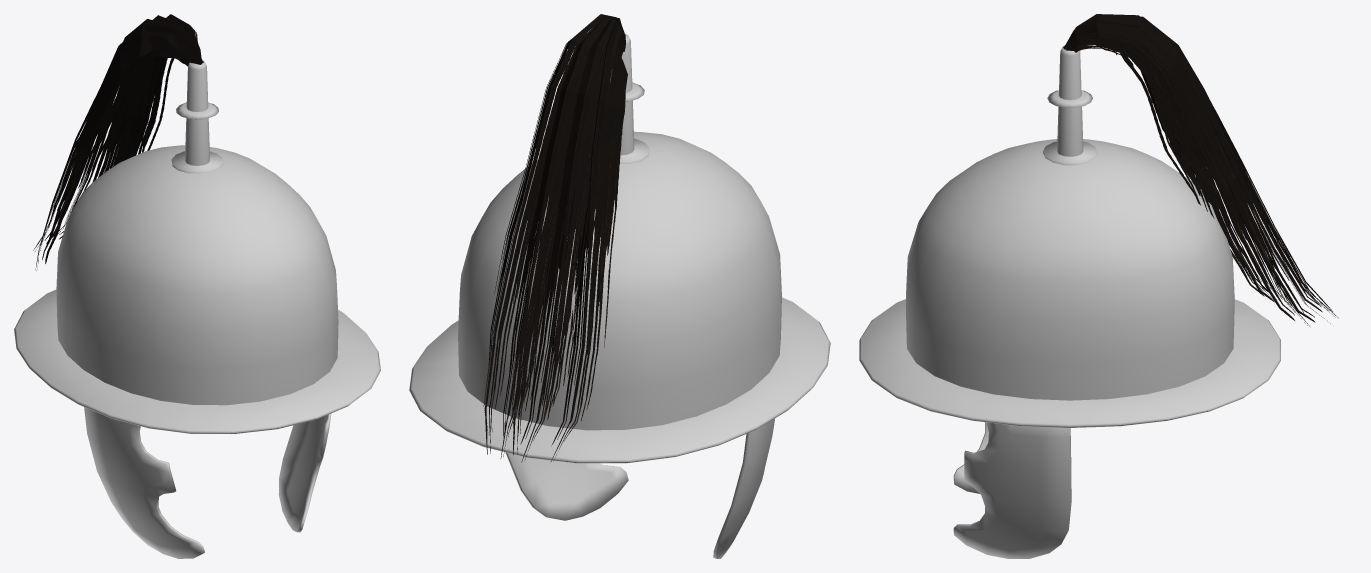
The model's file is imperial_celtic_helmet_plume_exp7.FBX.
3 views of the same model, side by side, from view 1: azimuth 30°, elevation 25°; view 2: azimuth 150°, elevation 25°; view 3: azimuth 270°, elevation 25° (orthographic). The views are drawn at different scales.
Parts seen in each view (by area): view 1: imperial_celtic_helmet_plume_exp7, Object001; view 2: imperial_celtic_helmet_plume_exp7, Object001; view 3: imperial_celtic_helmet_plume_exp7, Object001.
Boxes of the visible parts, x1,y1,x2,y2 form: imperial_celtic_helmet_plume_exp7: (14,60,380,558); Object001: (33,14,203,270); imperial_celtic_helmet_plume_exp7: (409,34,830,558); Object001: (483,14,627,462); imperial_celtic_helmet_plume_exp7: (859,46,1280,558); Object001: (1063,14,1338,326).
Size of the model in its own units: 26.76 by 41.85 by 37.13.
